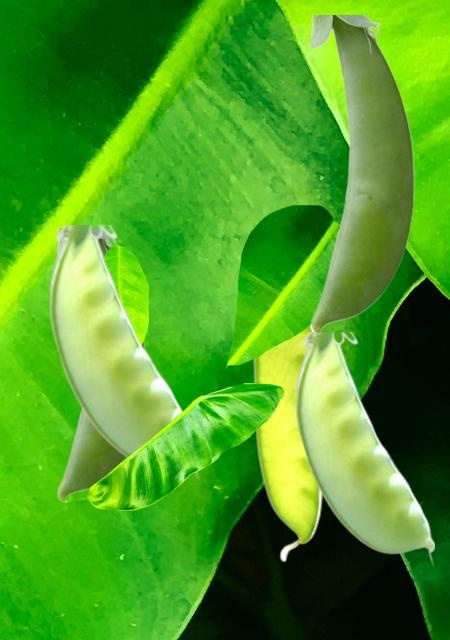pea: (48, 225, 198, 479), (294, 332, 433, 566), (311, 15, 413, 333), (57, 228, 144, 501), (251, 326, 321, 561)
